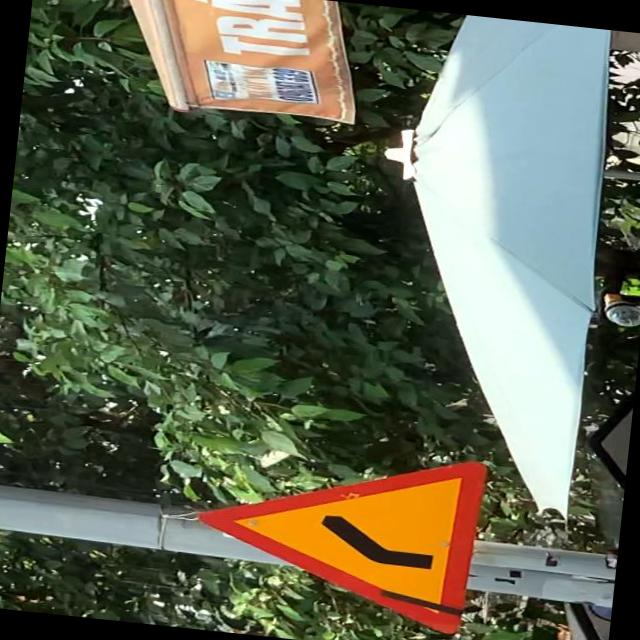W-201b: (190, 431, 486, 637)
